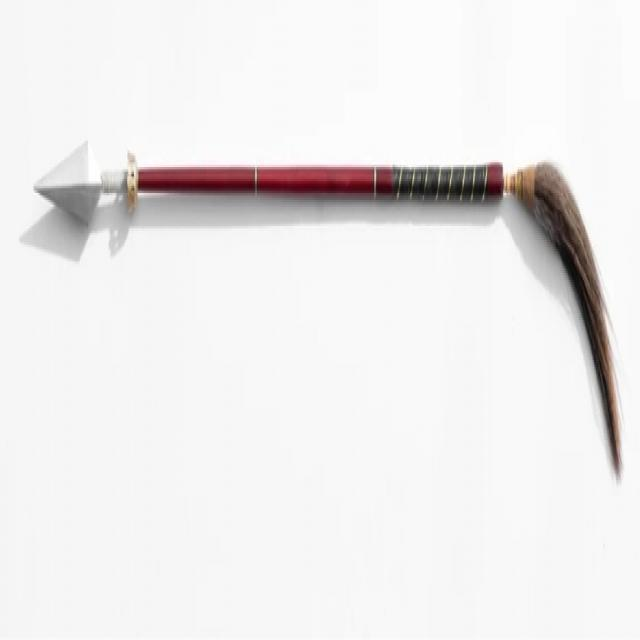spear: (29, 95, 628, 558)
